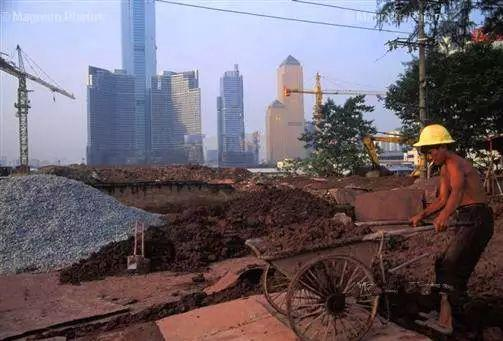helmet: (417, 126, 457, 150)
